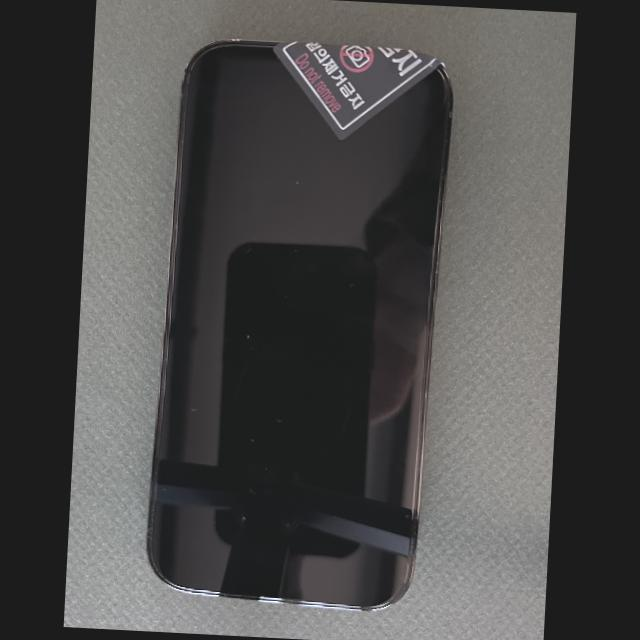phone: (147, 39, 454, 612)
sticker: (273, 41, 443, 140)
